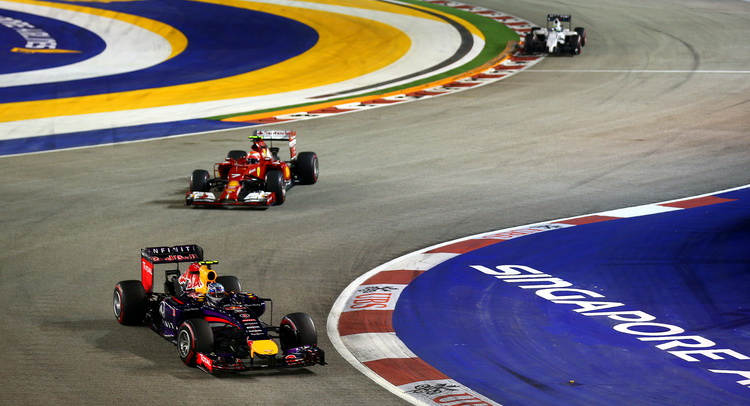race car: (110, 243, 330, 379), (182, 127, 322, 212), (517, 12, 588, 60)
